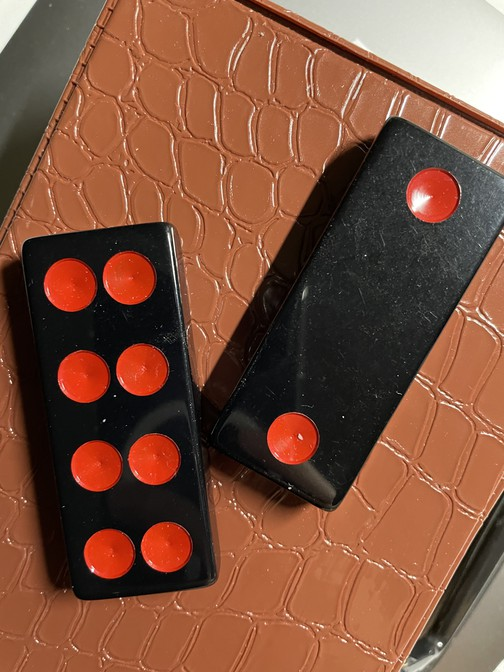earth: (203, 116, 504, 513)
man: (22, 221, 219, 599)
